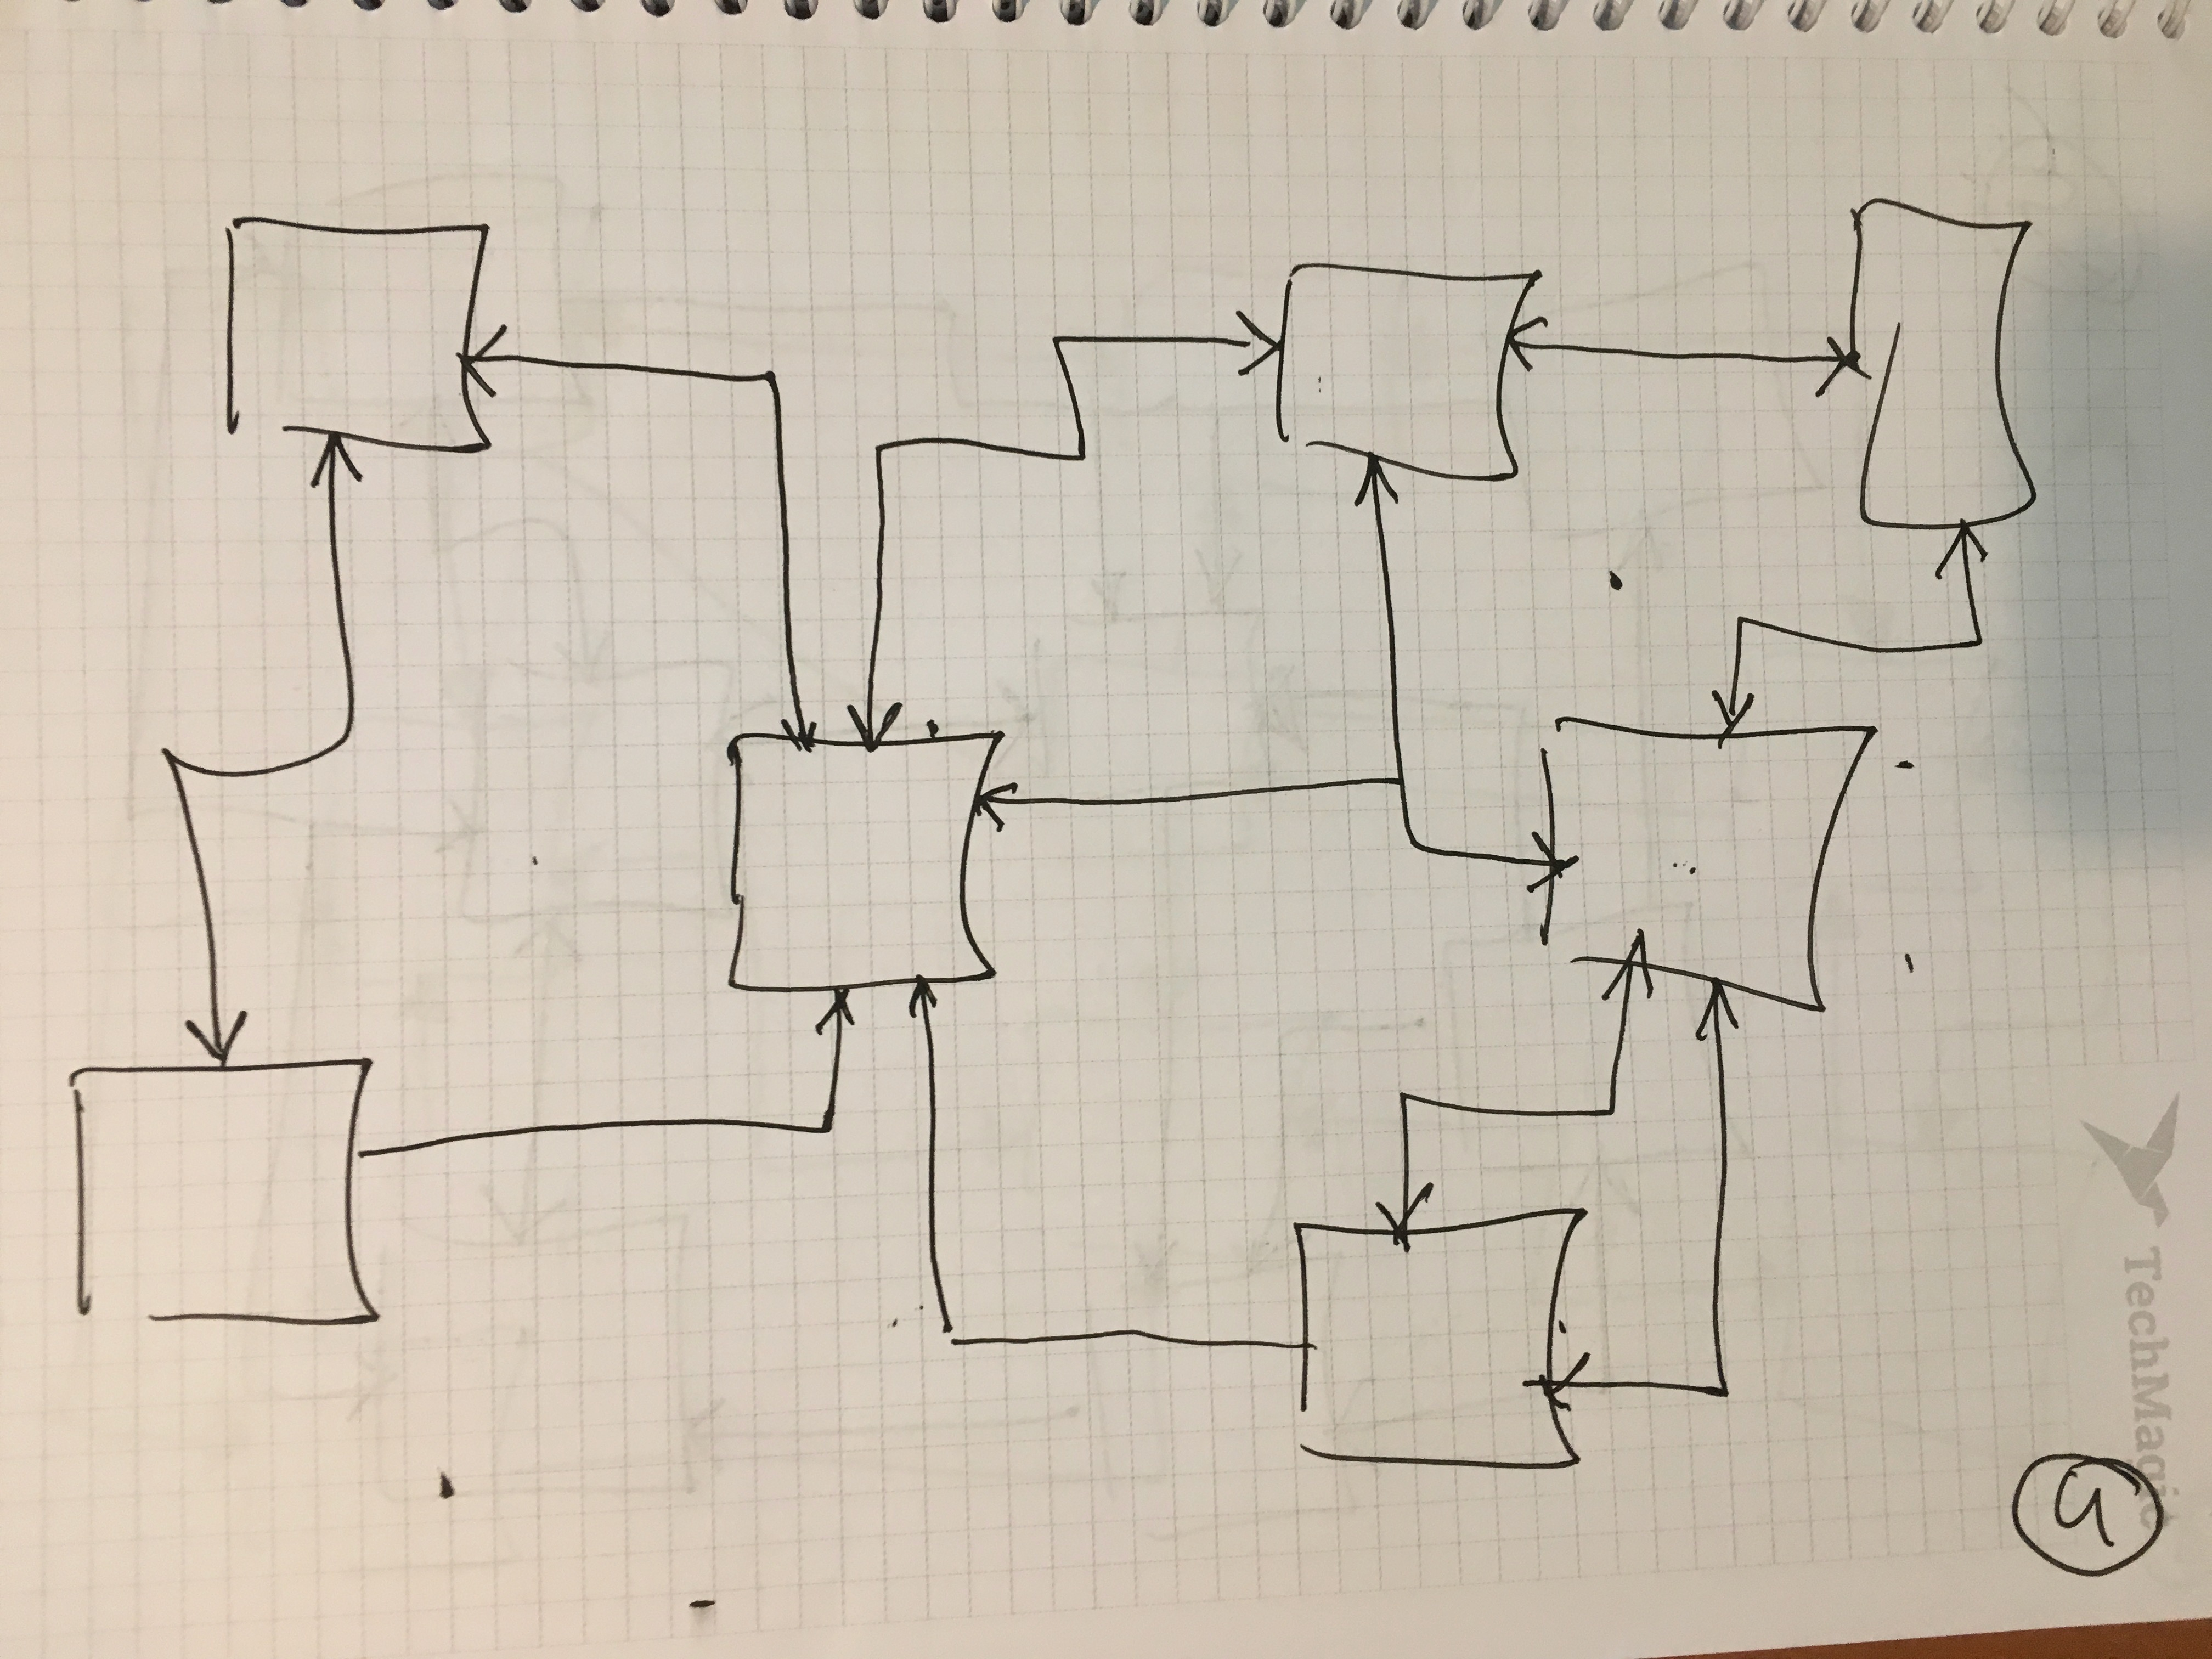arrow: (1512, 1340, 1649, 1420), (1458, 826, 1588, 899), (1163, 314, 1305, 380), (442, 333, 587, 396), (181, 962, 254, 1086), (1599, 929, 1665, 1061), (1371, 1154, 1446, 1269), (1923, 511, 2001, 620), (961, 782, 1101, 843), (1695, 652, 1764, 767), (300, 413, 368, 523), (1480, 314, 1587, 380), (843, 655, 906, 765), (1352, 441, 1409, 559), (1766, 331, 1864, 401), (808, 979, 864, 1089), (897, 976, 951, 1089), (1695, 972, 1747, 1080), (770, 652, 819, 765)
